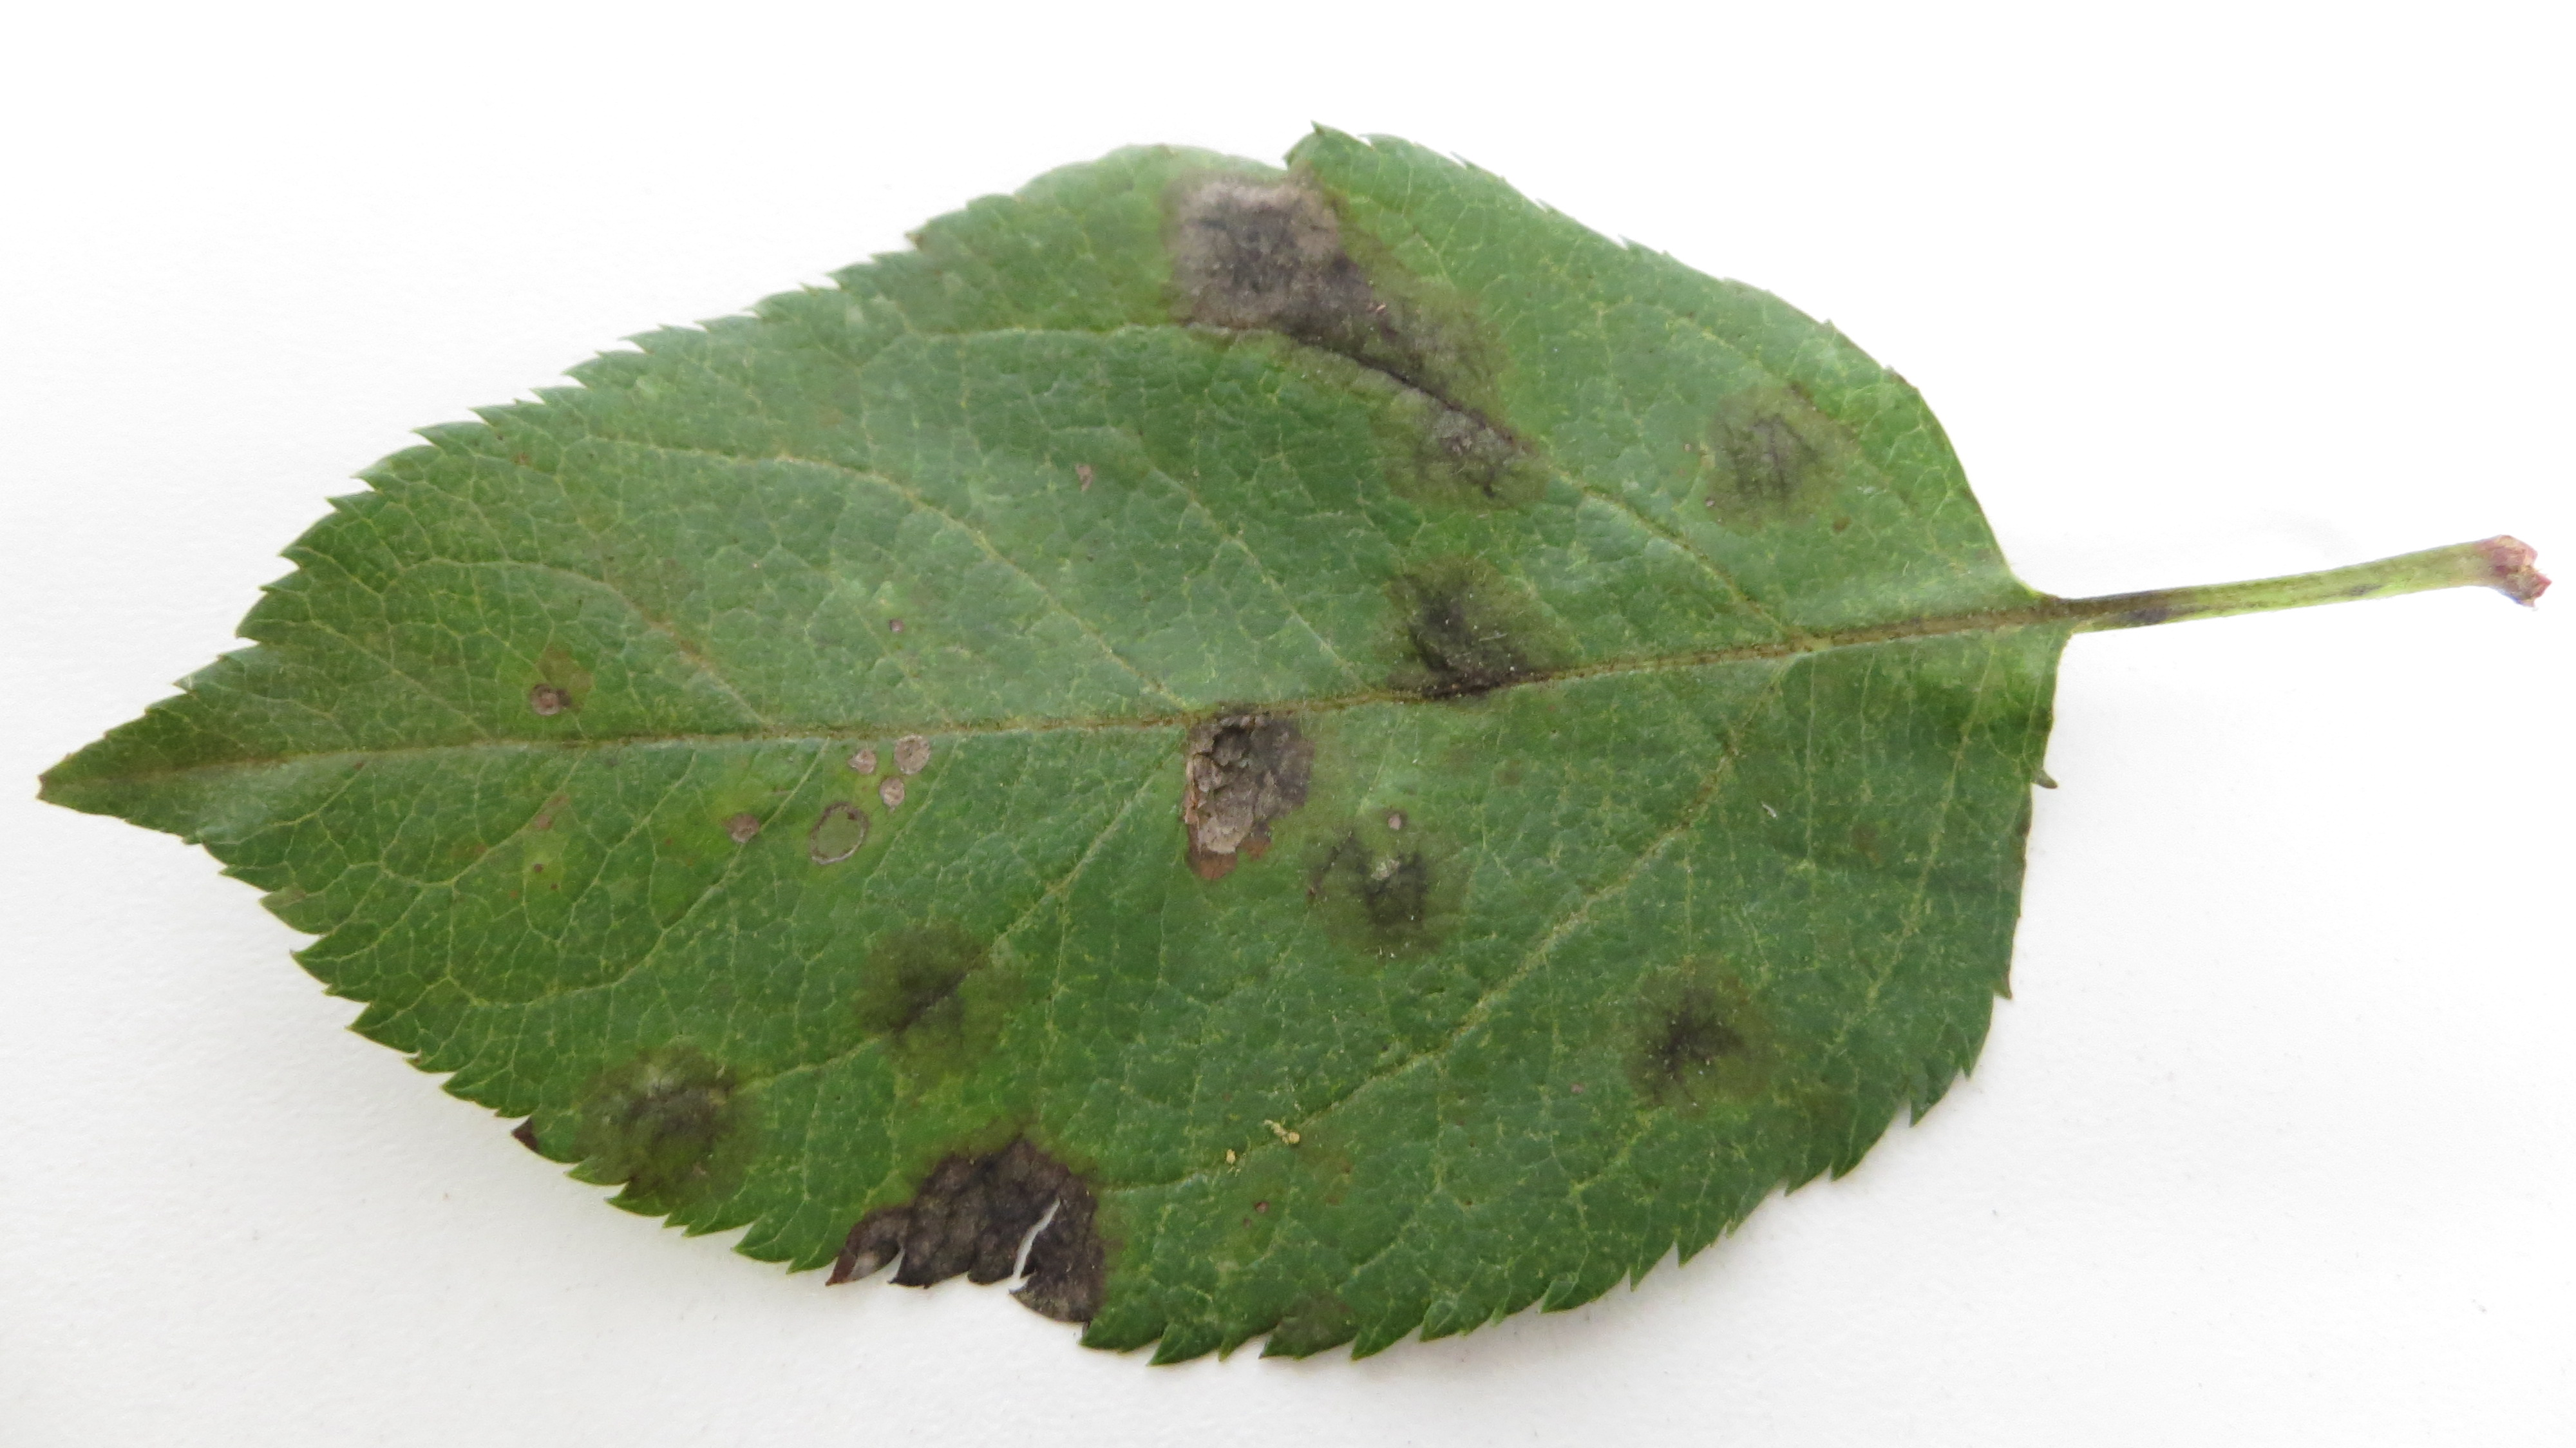sarna: (1169, 154, 1463, 402), (832, 1119, 1113, 1322), (1366, 542, 1576, 743), (1169, 678, 1332, 922), (566, 1028, 770, 1218), (846, 899, 1028, 1099), (1596, 952, 1780, 1122), (1686, 375, 1856, 535), (1385, 389, 1564, 529), (1316, 800, 1461, 963), (839, 712, 936, 828), (508, 639, 602, 720), (701, 782, 784, 864)
